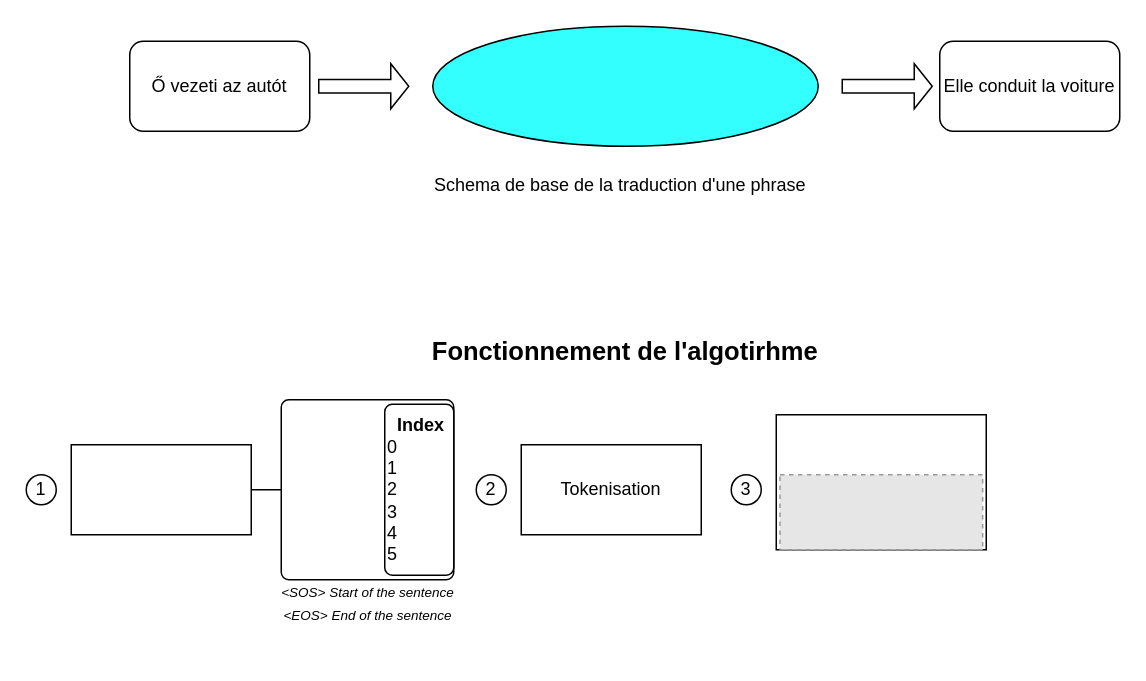
This 1146x681 diagram has some shape labels left out. Grey dashed boxes stand in for pictures. Here are the shapes that lost their labels. From the top down, the box of each, then its label:
(431, 25, 818, 146): ALGORITHME
(70, 443, 251, 535): Transformation des données
(280, 398, 454, 580): Mot Ő vezeti az autót <SOS> <EOS>
(775, 413, 986, 550): Codage de position
